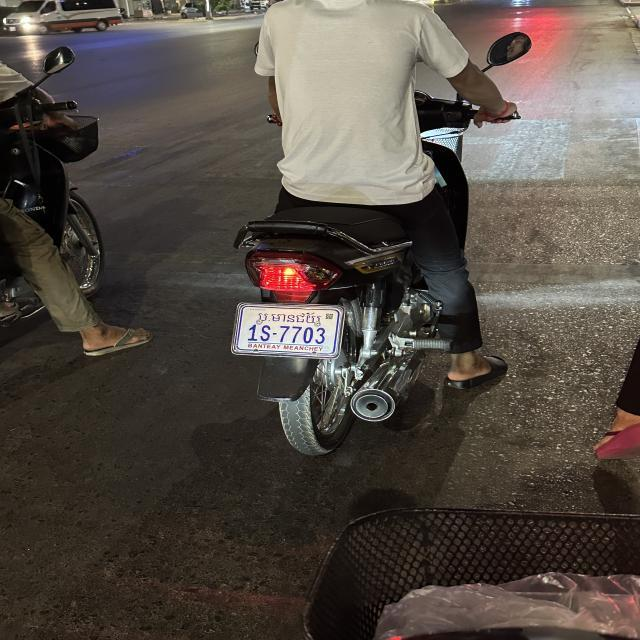Banteay_Meanchey: (258, 311, 323, 324)
